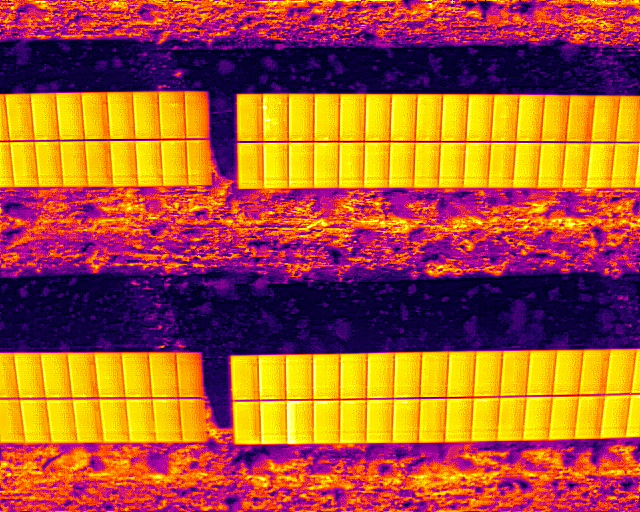multi_spot: (262, 93, 289, 141)
photovoltaic_panels: (228, 348, 638, 446), (234, 91, 637, 190), (2, 90, 214, 187), (2, 350, 208, 443)
single_spot: (158, 92, 186, 139)
stripe_spot: (284, 400, 313, 444)
